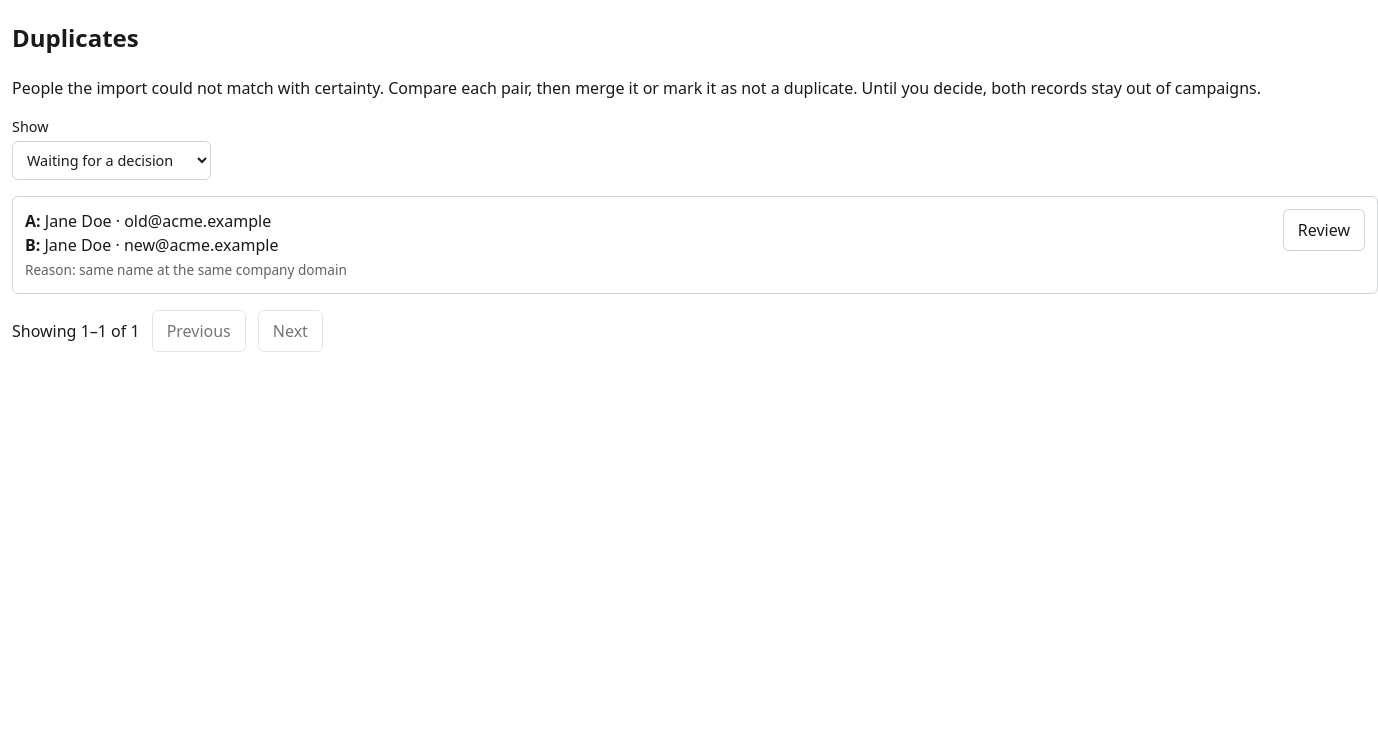
Test: compare and merge › merge needs a second click, then sends the survivor and the chosen values
The image size is (1378, 738).
Expected: the text "Jane Doe · old@acme.example" is shown, top-left (45, 210), bottom-right (271, 232)
Click the button with aria-label "Review Jane Doe" at [1324, 230], box top-left (1283, 209), bottom-right (1365, 251)
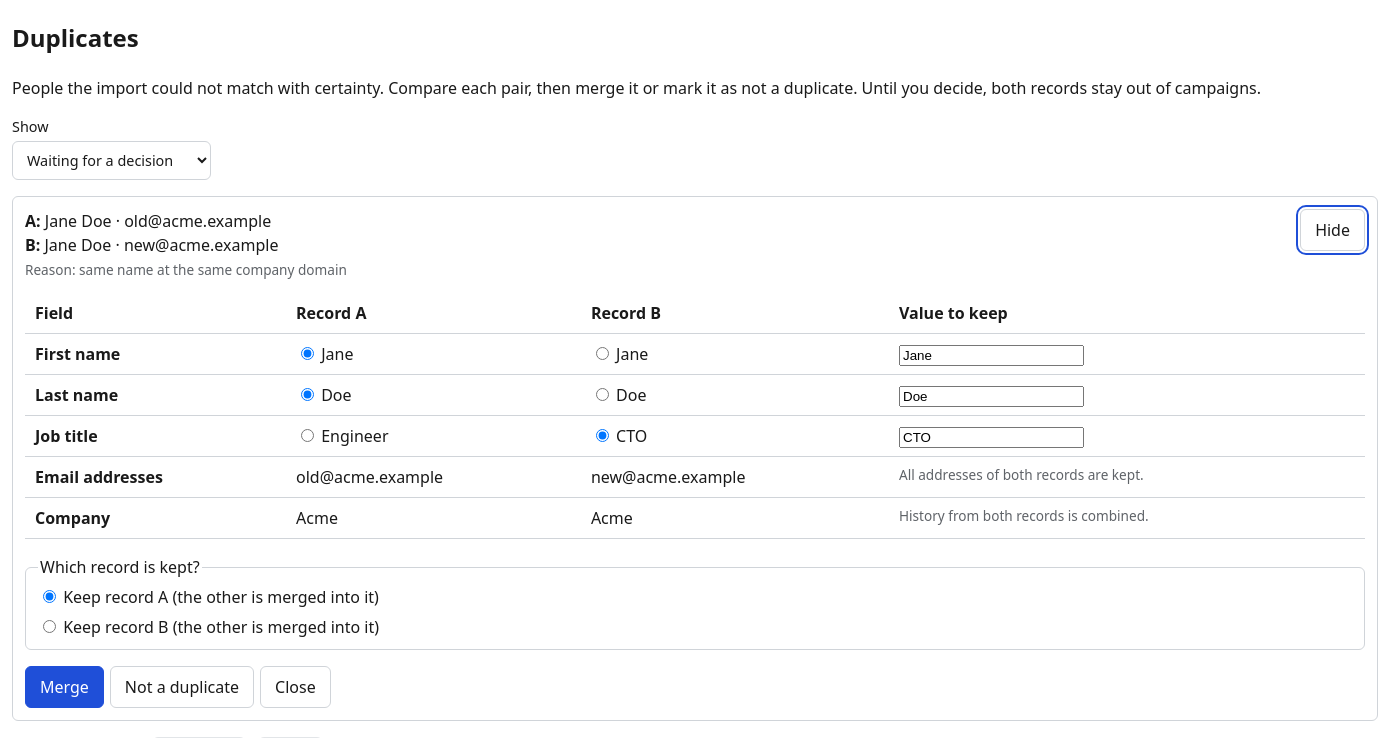
Click the button "Merge" at [64, 687], box top-left (25, 666), bottom-right (104, 708)
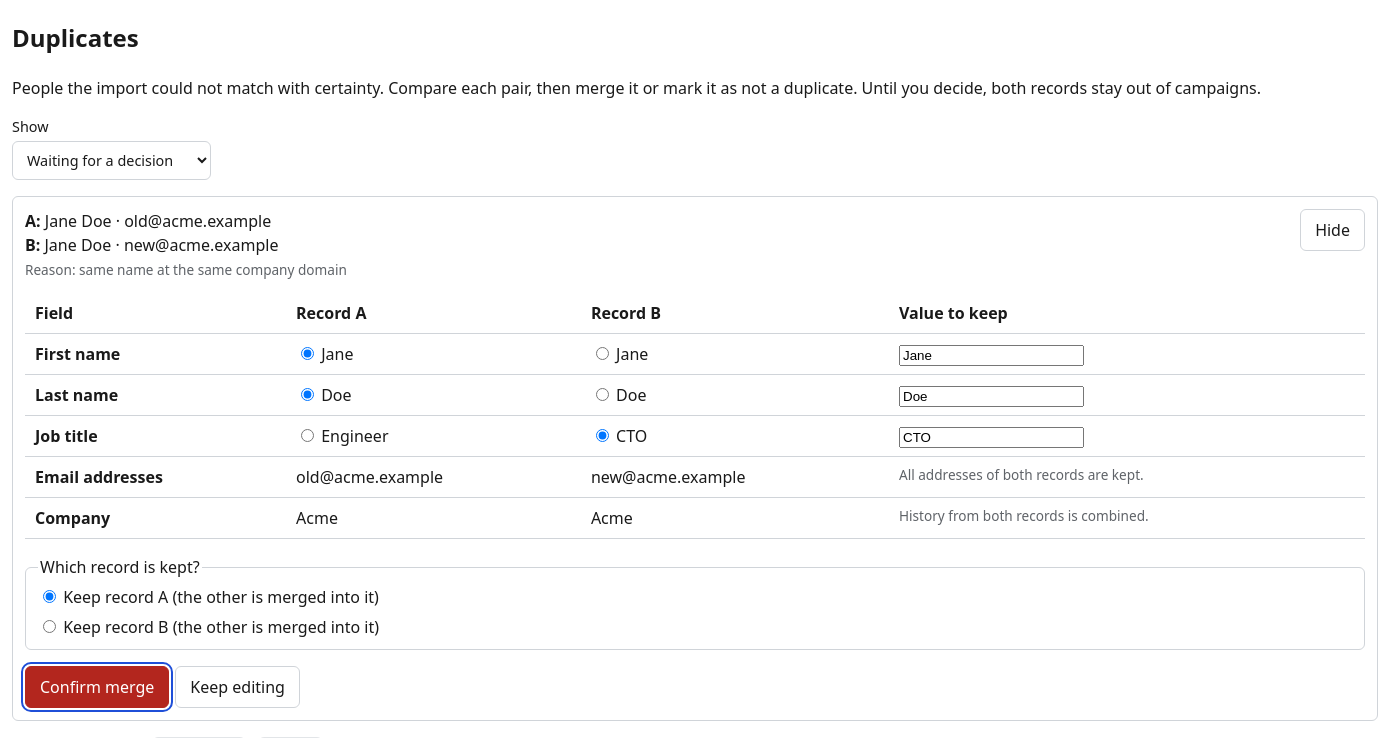
Click the button "Confirm merge" at [97, 687], box top-left (25, 666), bottom-right (169, 708)
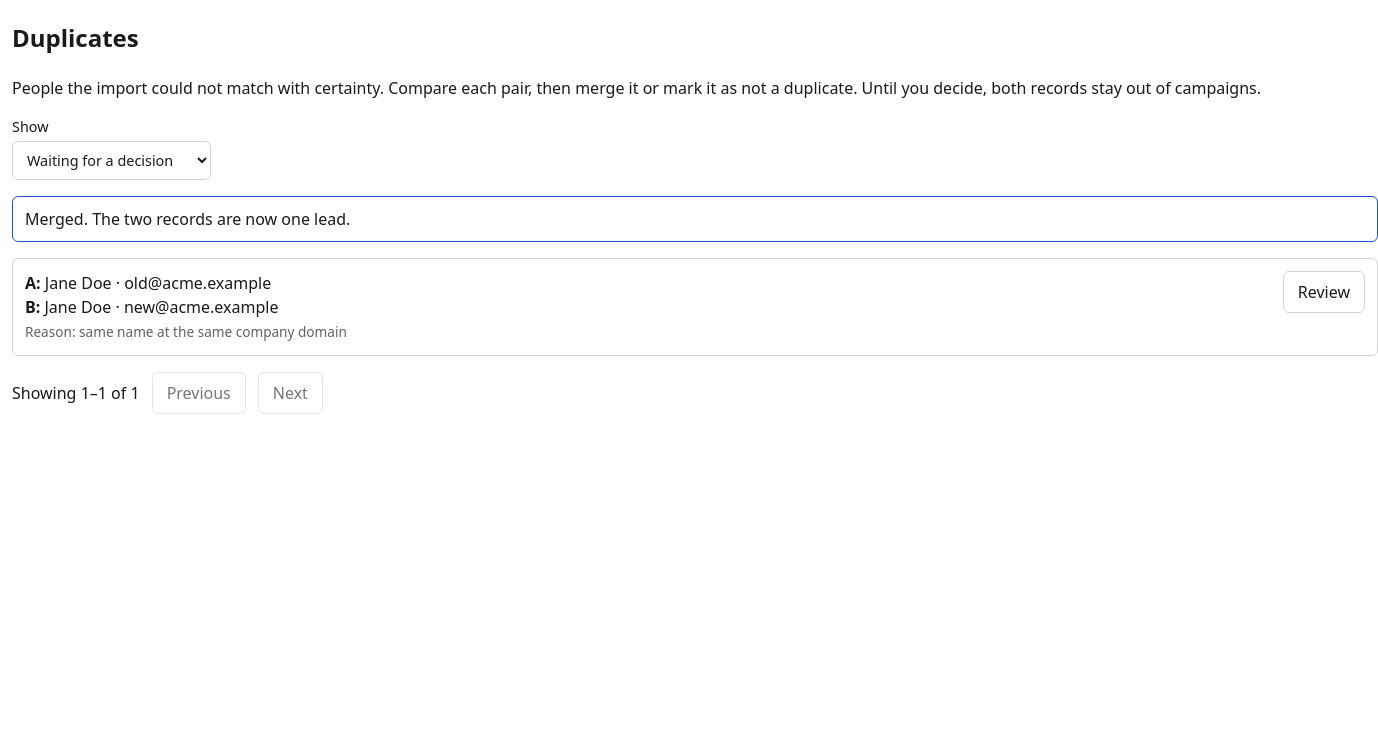
Now the text "Merged. The two records are now one lead." is shown, box top-left (12, 196), bottom-right (1377, 242)
